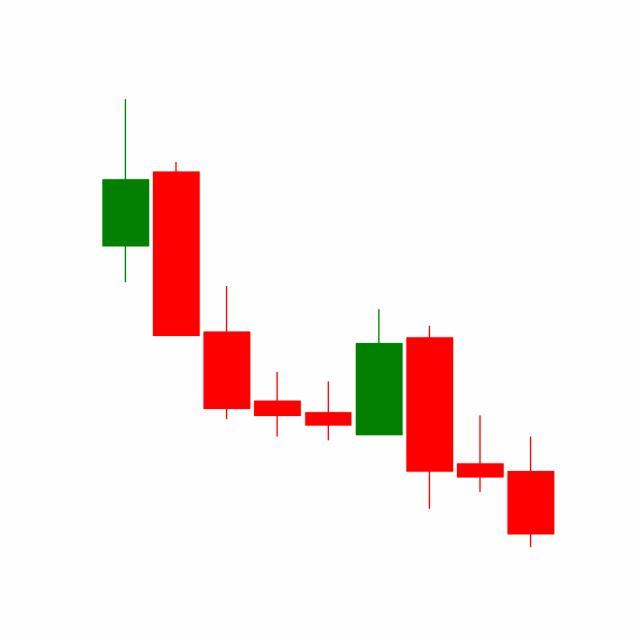Hikkake Pattern: (302, 306, 555, 549)
